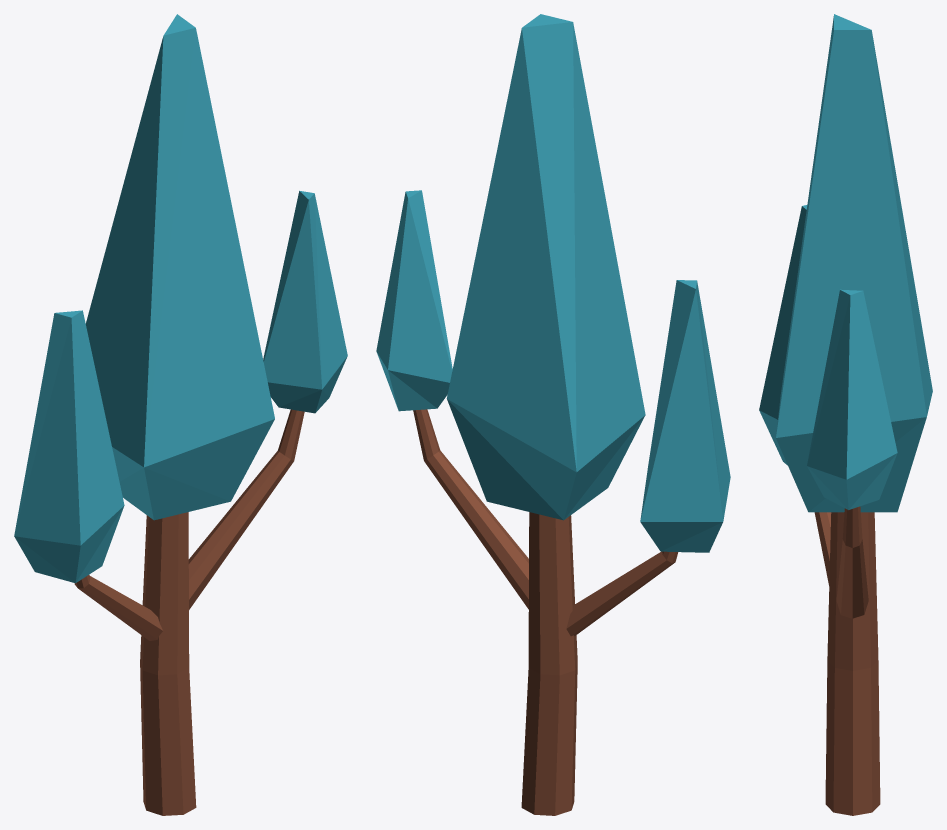
Rendered from Tree_50_summer_blue_mat.fbx.
3 views of the same model, side by side, from view 1: azimuth 30°, elevation 25°; view 2: azimuth 150°, elevation 25°; view 3: azimuth 270°, elevation 25° (orthographic).
Parts seen in each view (by area): view 1: Tree_50_summer_blue_mat; view 2: Tree_50_summer_blue_mat; view 3: Tree_50_summer_blue_mat.
Part boxes in pixels (bbox=[...]): Tree_50_summer_blue_mat: bbox=[14, 14, 347, 815]; Tree_50_summer_blue_mat: bbox=[376, 14, 730, 815]; Tree_50_summer_blue_mat: bbox=[759, 14, 932, 815].
Bounding box in the file's own units: 118 × 259 × 52.22.
